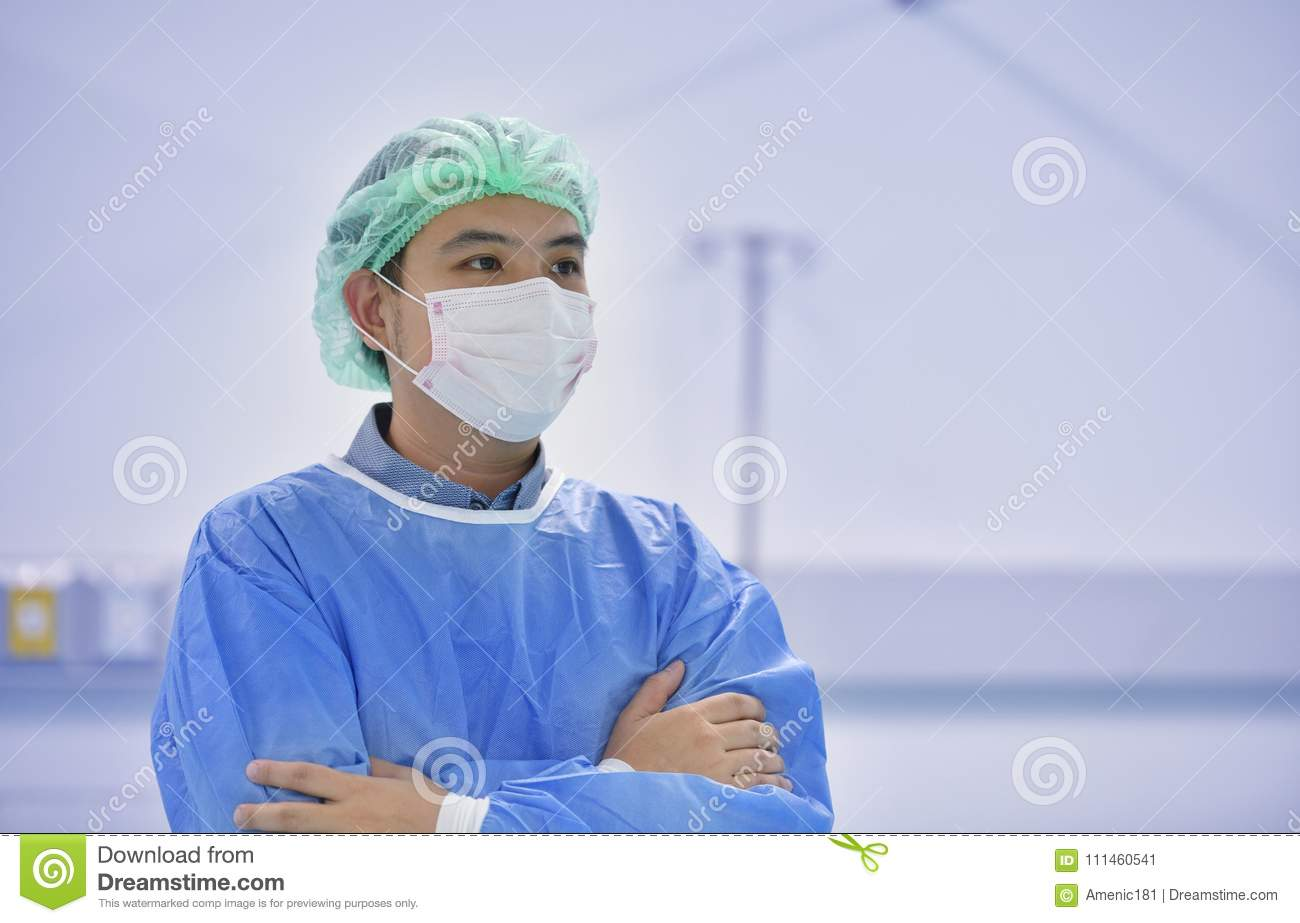mask: (424, 284, 611, 444)
